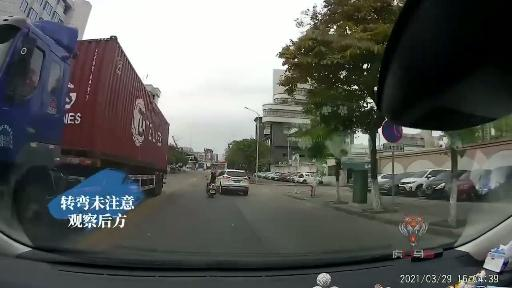CAR: (217, 168, 253, 196)
Truck: (4, 15, 169, 204)
